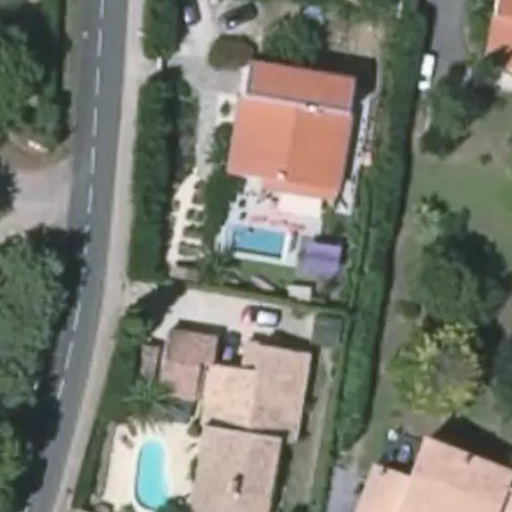pool: (127, 431, 173, 512), (221, 220, 294, 264)
